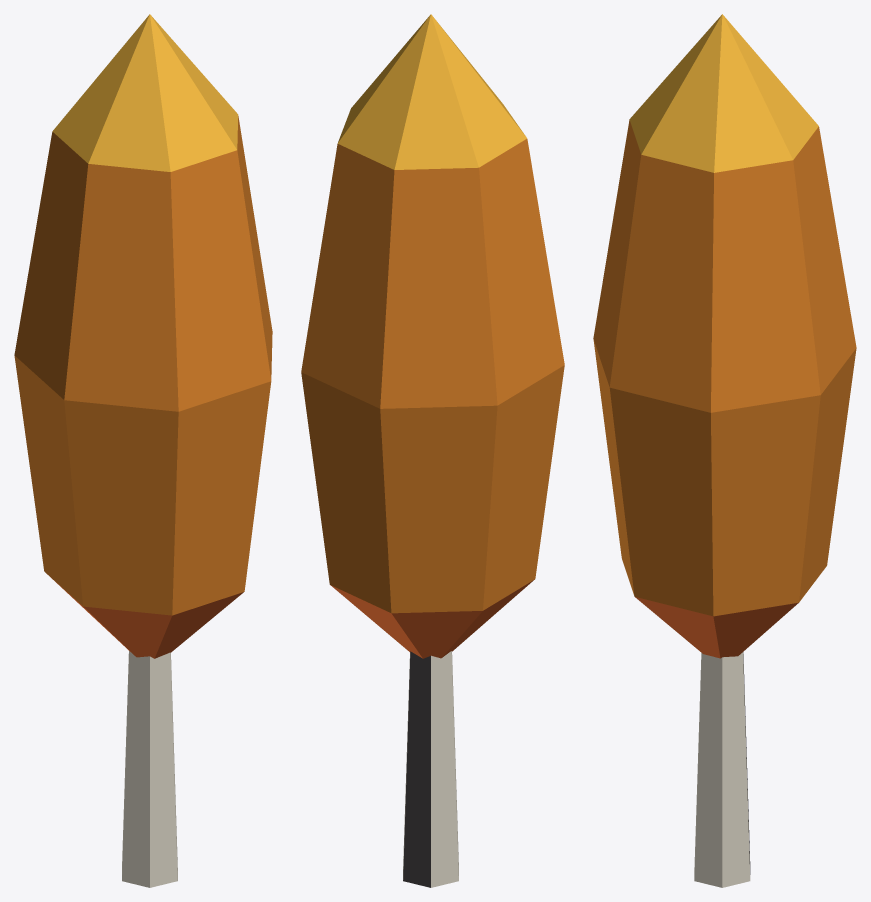
File: tree_tall_fall.glb
The picture shows the model from 3 angles, left to right: view 1: azimuth 30°, elevation 25°; view 2: azimuth 150°, elevation 25°; view 3: azimuth 270°, elevation 25°; orthographic projection.
Visible parts, largest first — view 1: tree_tall_fall; view 2: tree_tall_fall; view 3: tree_tall_fall.
Boxes of the visible parts, x1,y1,x2,y2 form: tree_tall_fall: (14, 14, 272, 887); tree_tall_fall: (301, 14, 564, 887); tree_tall_fall: (593, 14, 856, 887).
Size of the model in its own units: 0.4055 by 1.47 by 0.408.
1 material, 1 textured.
